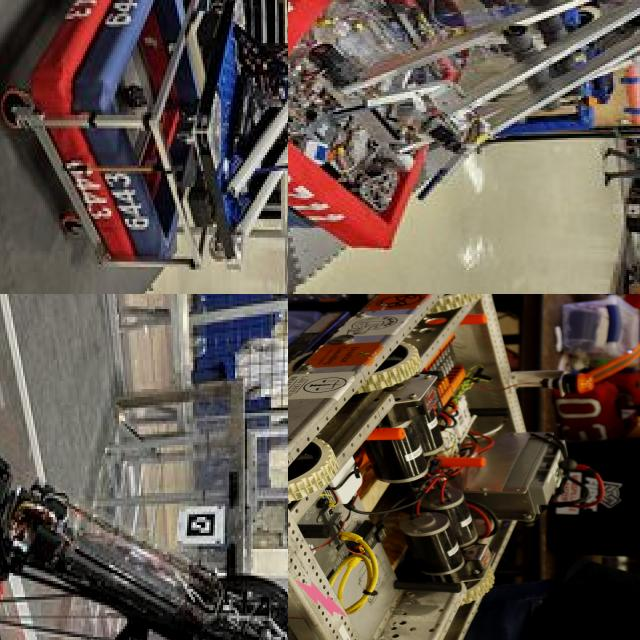FRC-Robots: (288, 294, 640, 640), (0, 315, 288, 640), (288, 0, 640, 265), (147, 0, 288, 294)
